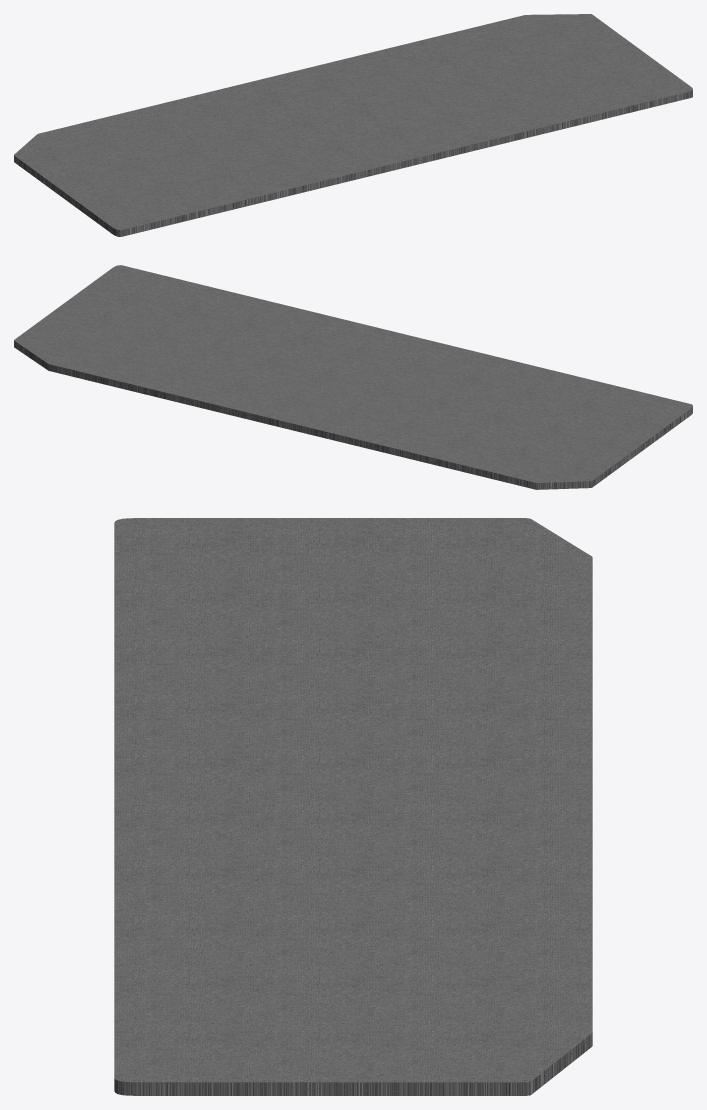
The model's file is grey_carpet.FBX.
The picture shows the model from 3 angles, top to bottom: view 1: azimuth 30°, elevation 25°; view 2: azimuth 150°, elevation 25°; view 3: azimuth 270°, elevation 25°; orthographic projection. The views are drawn at different scales.
Parts seen in each view (by area): view 1: grey_carpet; view 2: grey_carpet; view 3: grey_carpet.
Part boxes in pixels (<box>): grey_carpet: <box>14,14,692,236</box>; grey_carpet: <box>14,265,692,489</box>; grey_carpet: <box>114,518,592,1095</box>.
Bounding box in the file's own units: 640 × 7.2 × 229.
